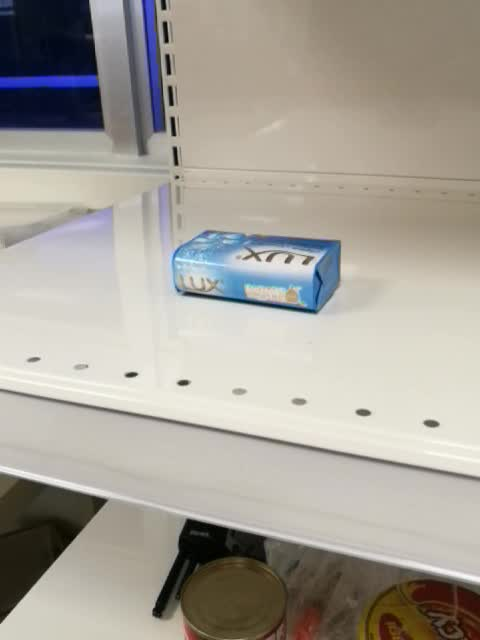soap: (171, 228, 343, 316)
